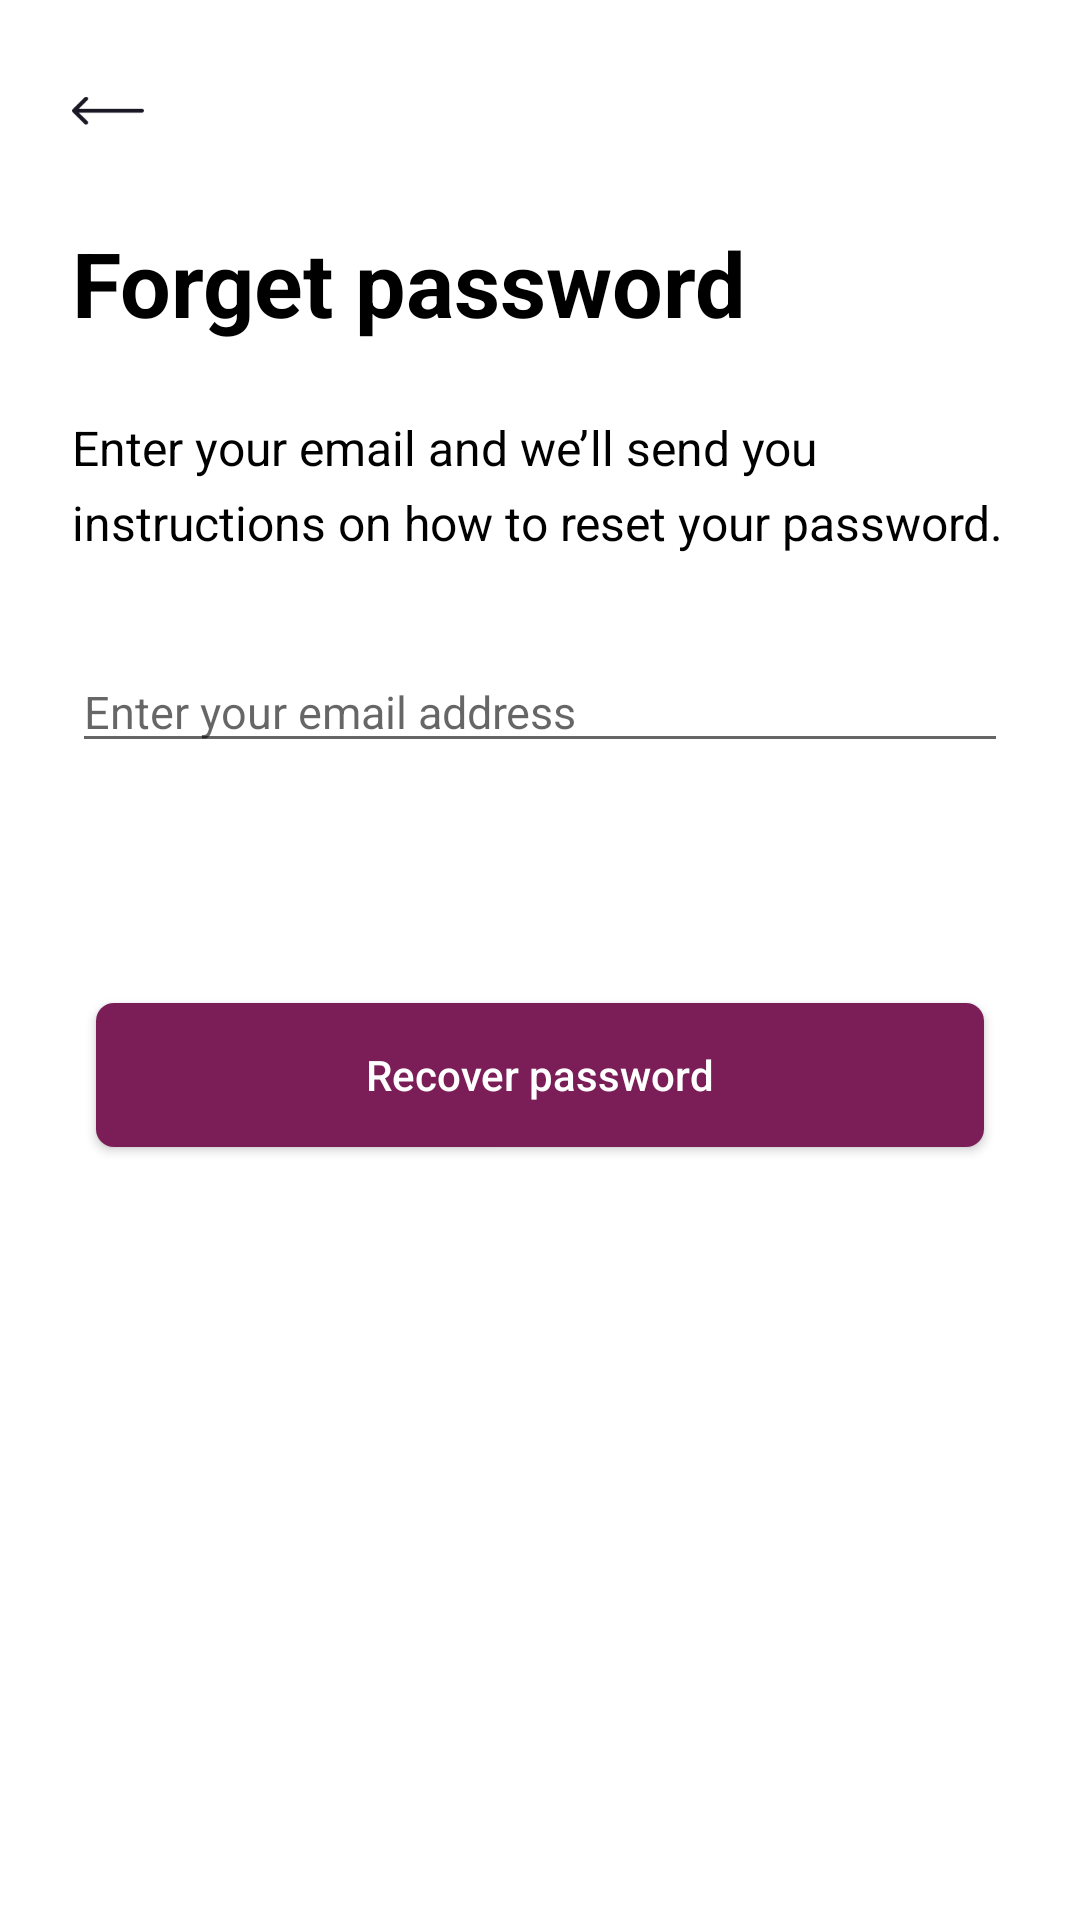

Named icons in this screenshot (1080px x 1920px) and their bounding boxes, detection(x1, y1, x2, y2):
back arrow: detection(72, 97, 144, 125)
